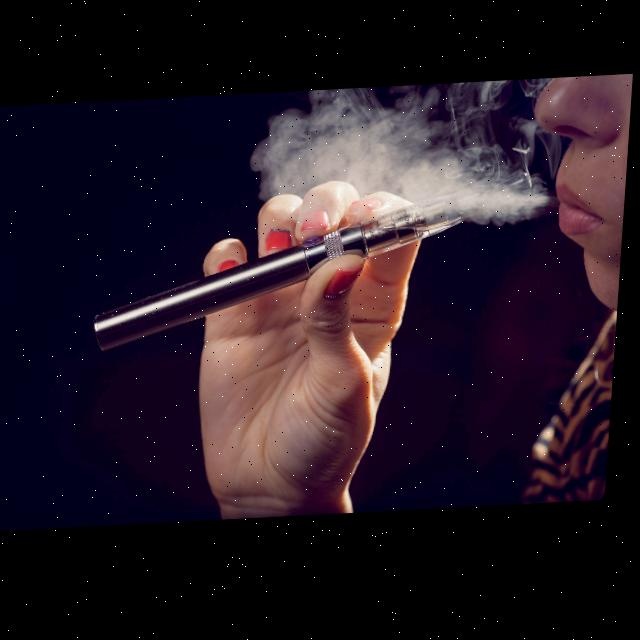vape: (94, 171, 539, 354)
